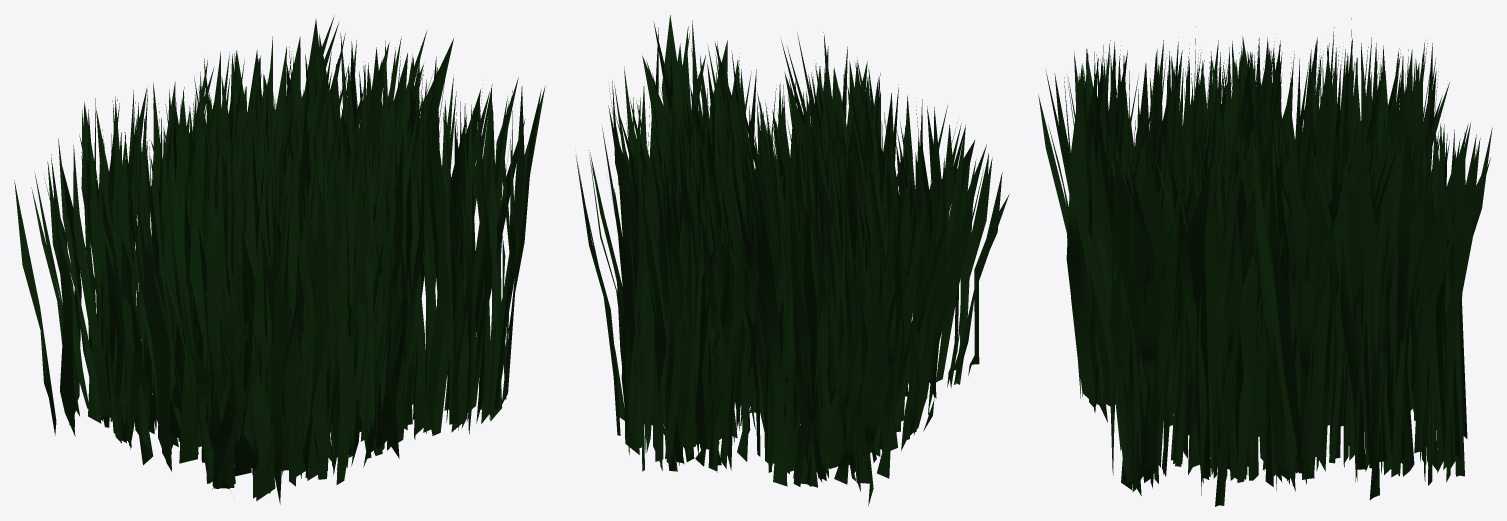
Rendered from simple_grass.obj.
3 views of the same model, side by side, from view 1: azimuth 30°, elevation 25°; view 2: azimuth 150°, elevation 25°; view 3: azimuth 270°, elevation 25° (orthographic). The views are drawn at different scales.
Visible parts, largest first — view 1: Object_4; view 2: Object_4; view 3: Object_4.
Part boxes in pixels (x1,y1,x2,y2): Object_4: (14, 15, 545, 504); Object_4: (575, 15, 1009, 505); Object_4: (1038, 18, 1492, 506).
Bounding box in the file's own units: 3.65 × 3.23 × 3.26.
